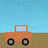vehicle: (5, 25, 31, 45)
